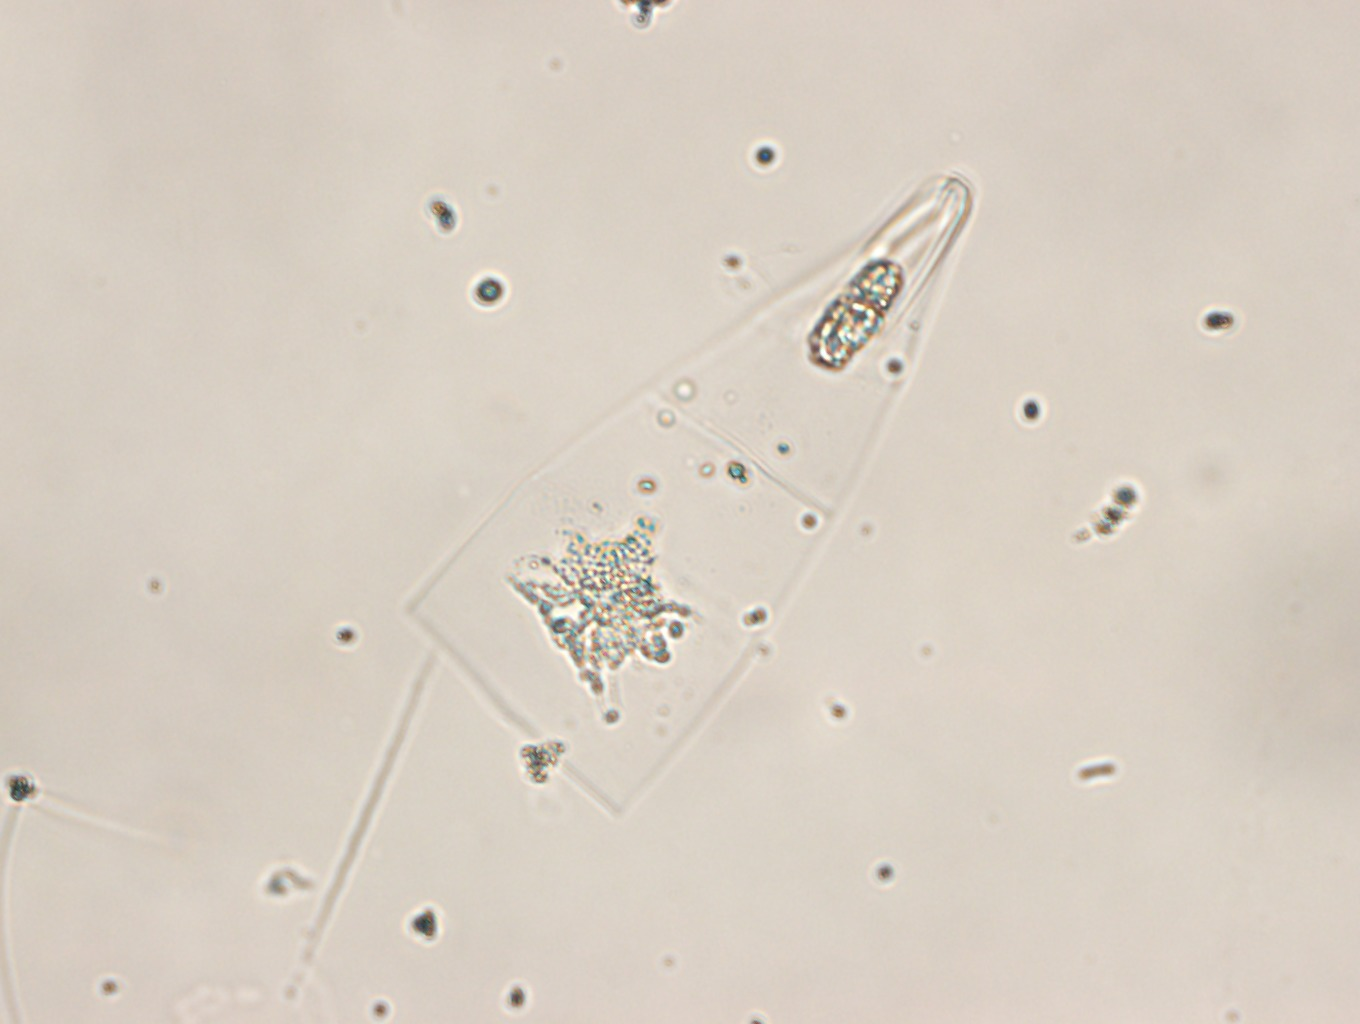helicotheca: (407, 173, 974, 817)
